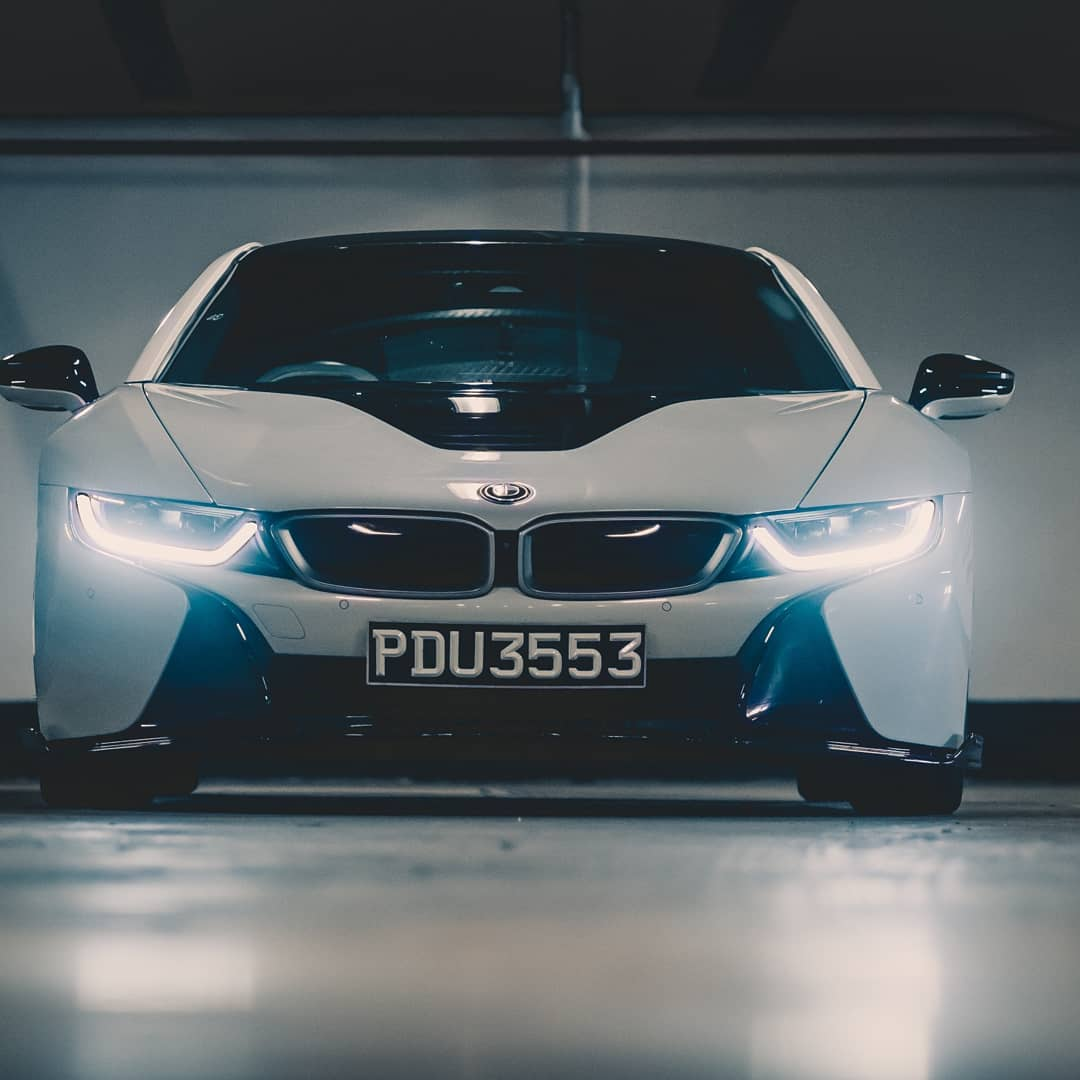License-Plate: (365, 622, 645, 685)
